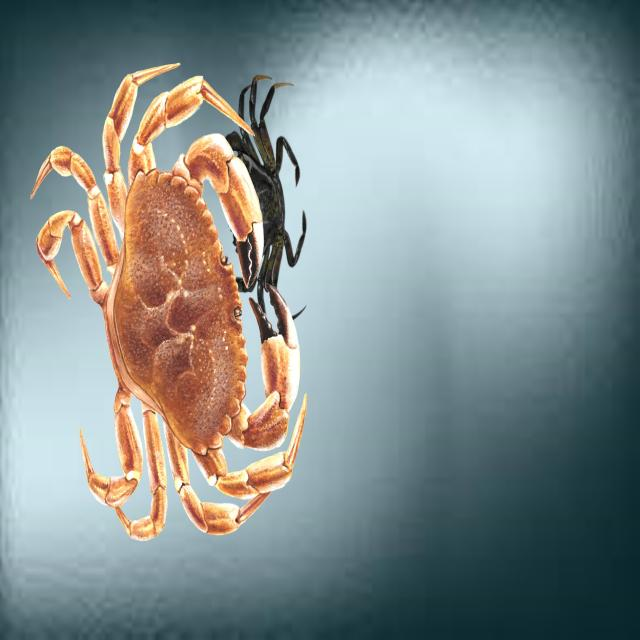European_Green_Crab: (232, 57, 316, 293)
